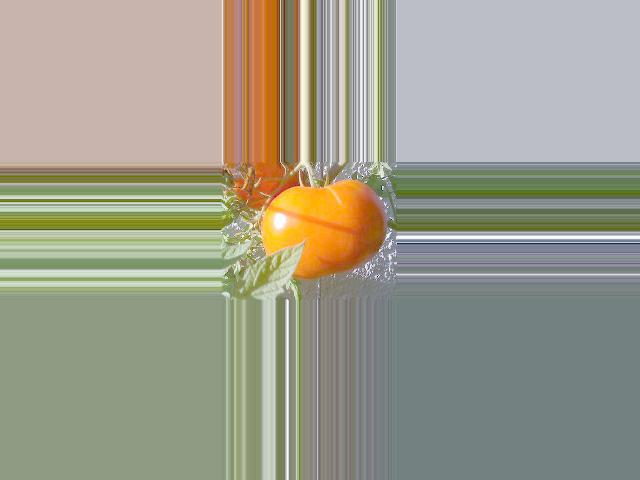tomato: (260, 179, 386, 279)
